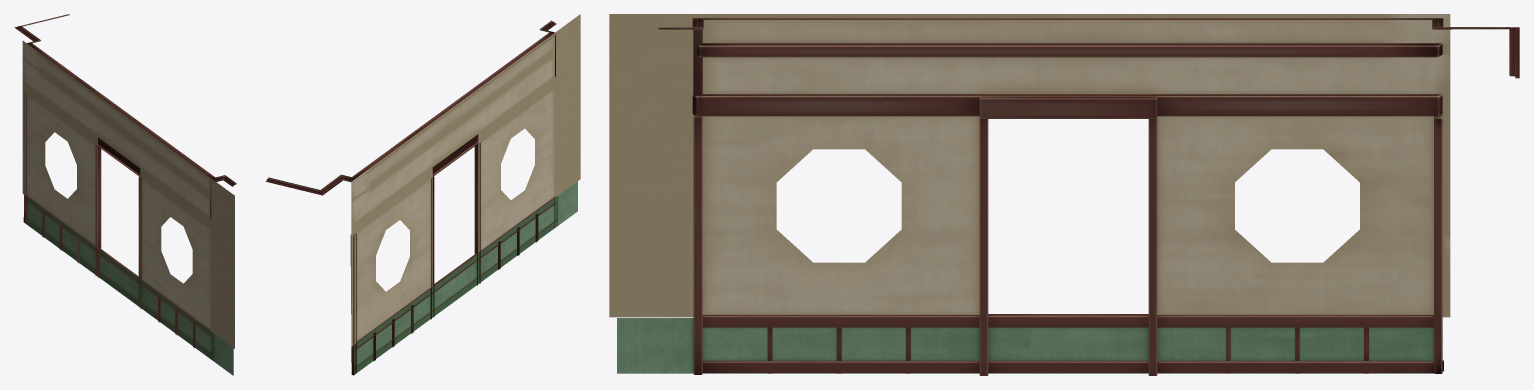
Rendered from TraditionalKoreanHouse_WallC.fbx.
3 renders of one model, left to right at view 1: azimuth 30°, elevation 25°; view 2: azimuth 150°, elevation 25°; view 3: azimuth 270°, elevation 25°, orthographic. The views are drawn at different scales.
Visible parts, largest first — view 1: TraditionalKoreanHouse_WallC; view 2: TraditionalKoreanHouse_WallC; view 3: TraditionalKoreanHouse_WallC.
Boxes of the visible parts, x1,y1,x2,y2 form: TraditionalKoreanHouse_WallC: (14, 14, 236, 375); TraditionalKoreanHouse_WallC: (266, 14, 580, 375); TraditionalKoreanHouse_WallC: (609, 14, 1519, 375).
Bounding box in the file's own units: 105 × 288 × 661.
